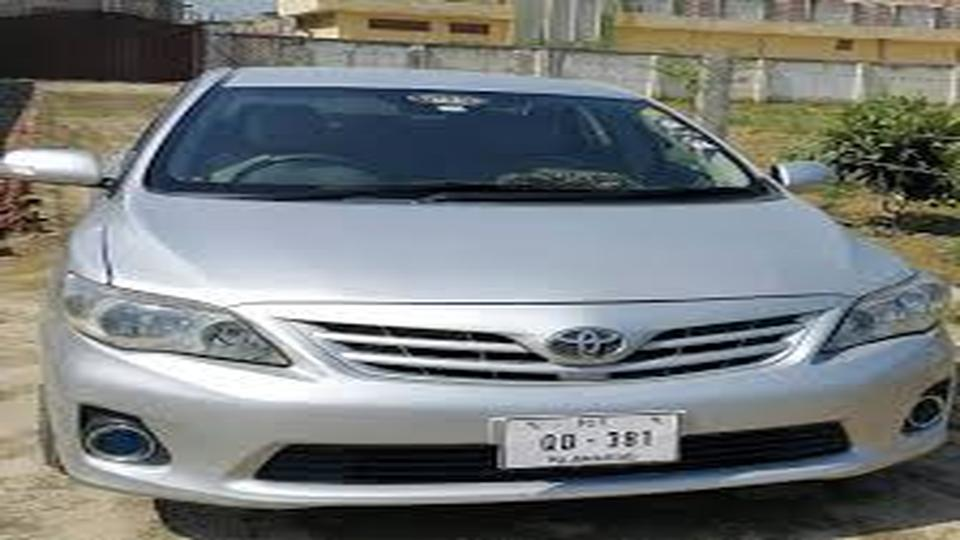NumberPlate: (495, 411, 691, 476)
